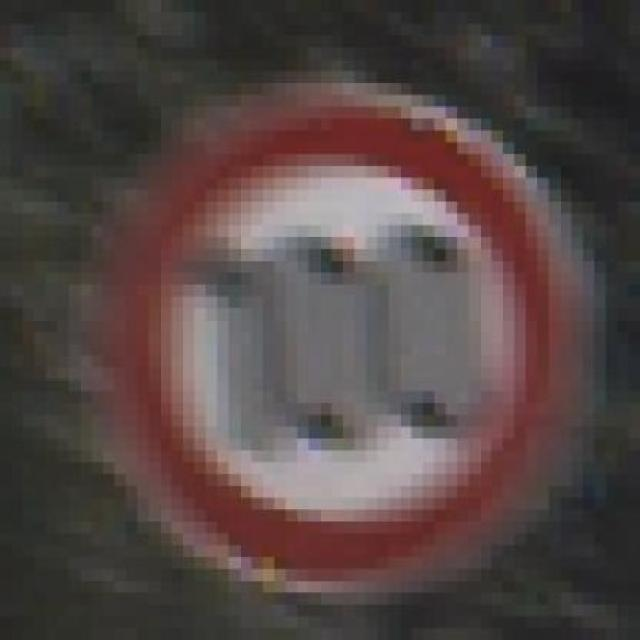forb_speed_over_100: (104, 96, 578, 590)
